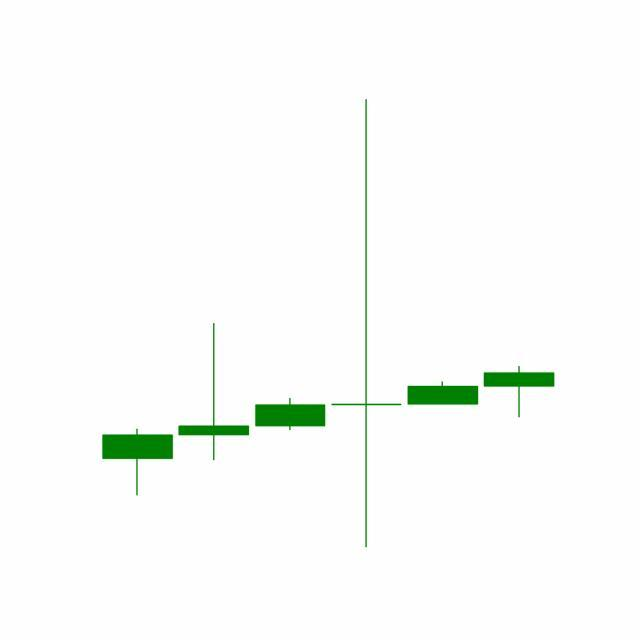Marubozu: (404, 381, 482, 406)
